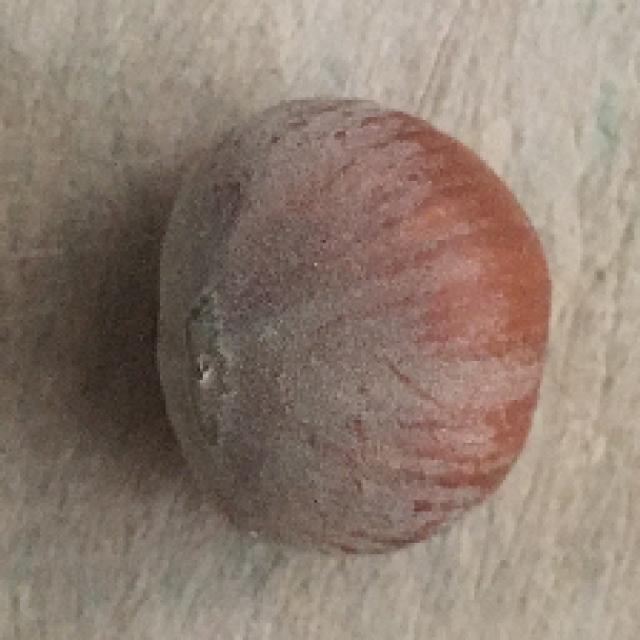QualityHazelnut: (150, 96, 555, 558)
